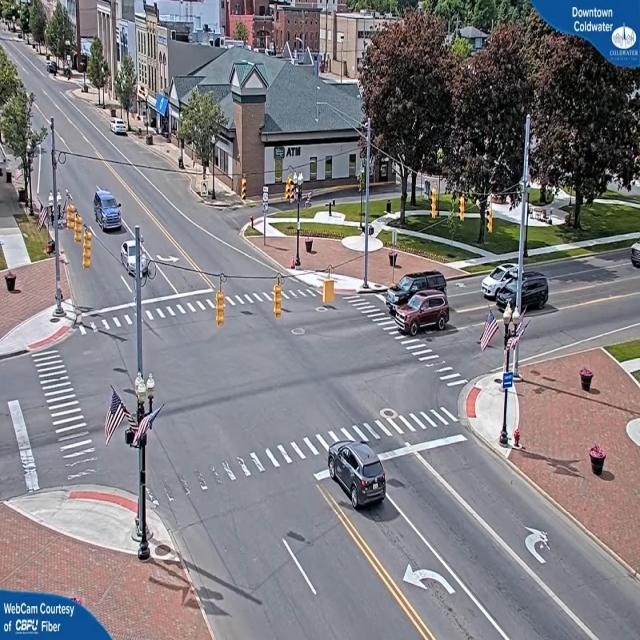car: (329, 442, 389, 508), (397, 298, 453, 334), (502, 273, 552, 313), (390, 270, 443, 302), (93, 189, 125, 232), (122, 238, 147, 279), (479, 267, 516, 291), (111, 120, 129, 136), (629, 240, 639, 268)
